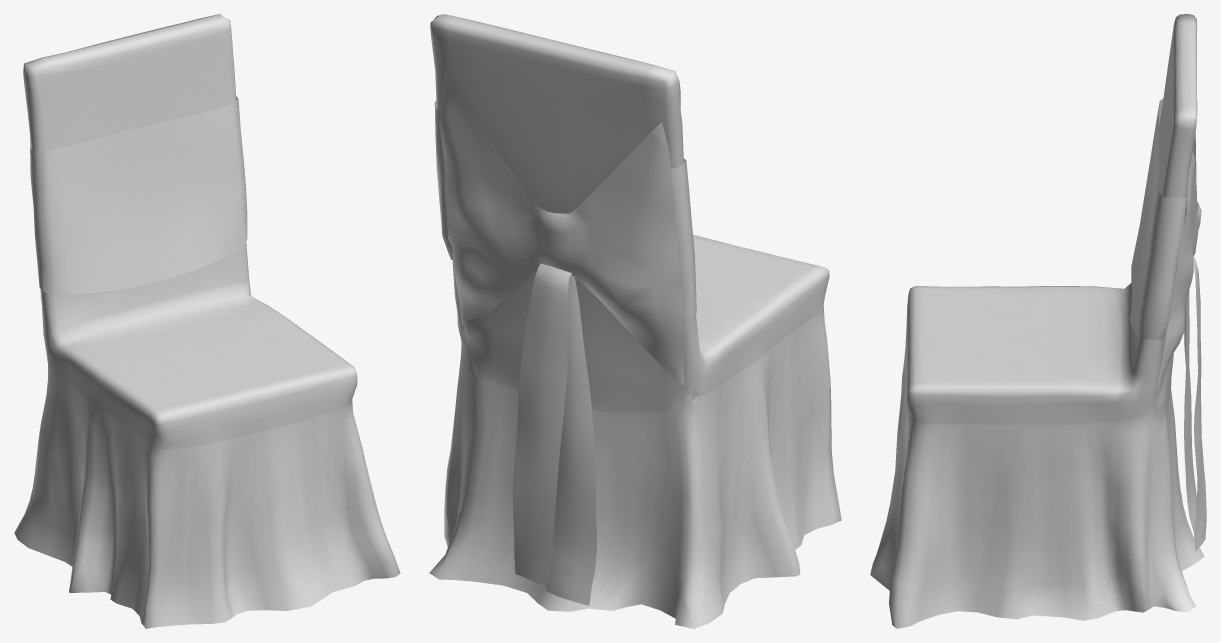
Rendered from EventChair02_2.FBX.
The picture shows the model from 3 angles, left to right: view 1: azimuth 30°, elevation 25°; view 2: azimuth 150°, elevation 25°; view 3: azimuth 270°, elevation 25°; orthographic projection. The views are drawn at different scales.
Parts seen in each view (by area): view 1: EventChair02_2; view 2: EventChair02_2; view 3: EventChair02_2.
Part boxes in pixels (bbox=[...]): EventChair02_2: bbox=[14, 14, 400, 628]; EventChair02_2: bbox=[429, 14, 841, 628]; EventChair02_2: bbox=[870, 14, 1206, 628].
Size of what is drawn, in the model's own units: 0.6865 by 1.14 by 0.7041.
